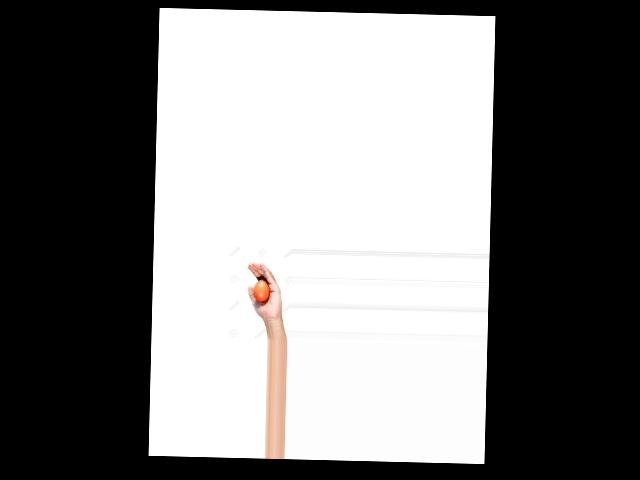egg: (253, 280, 270, 301)
